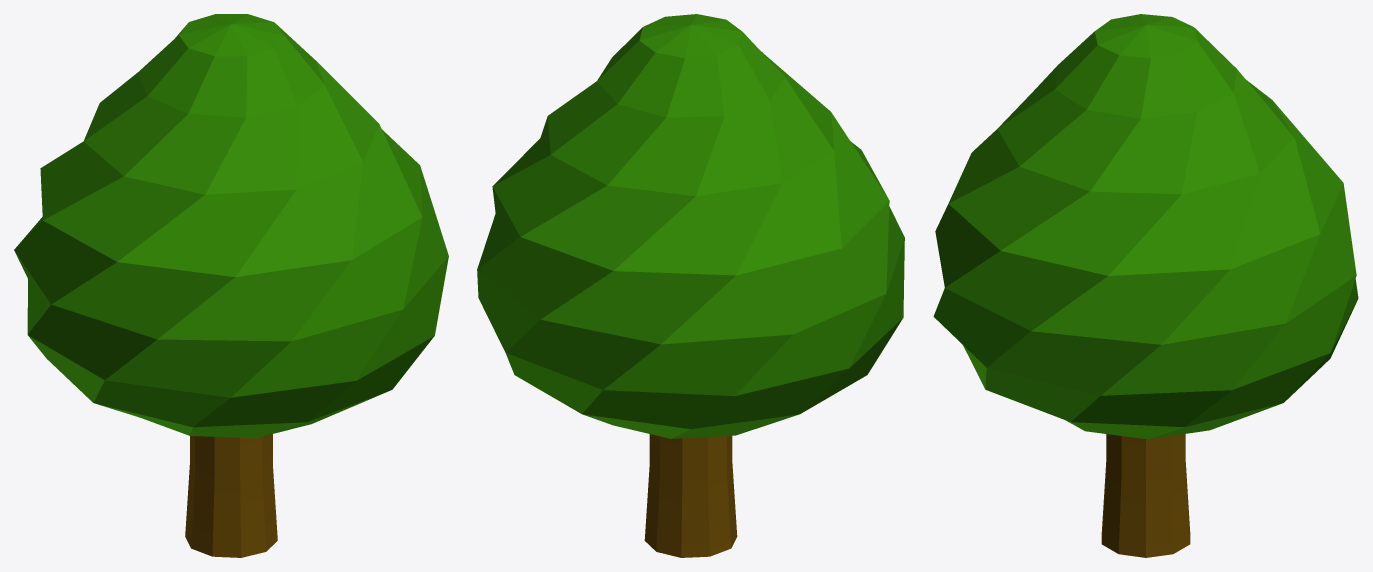
File: Deciduous Tree.fbx
3 views of the same model, side by side, from view 1: azimuth 30°, elevation 25°; view 2: azimuth 150°, elevation 25°; view 3: azimuth 270°, elevation 25° (orthographic).
Visible parts, largest first — view 1: Leaves, Trunk; view 2: Leaves, Trunk; view 3: Leaves, Trunk.
Part boxes in pixels (x1,y1,x2,y2): Leaves: [14, 14, 448, 438]; Trunk: [185, 434, 277, 557]; Leaves: [477, 14, 904, 438]; Trunk: [644, 434, 737, 557]; Leaves: [933, 14, 1358, 439]; Trunk: [1101, 434, 1190, 557].
Bounding box in the file's own units: 10.42 × 13.63 × 10.23.
